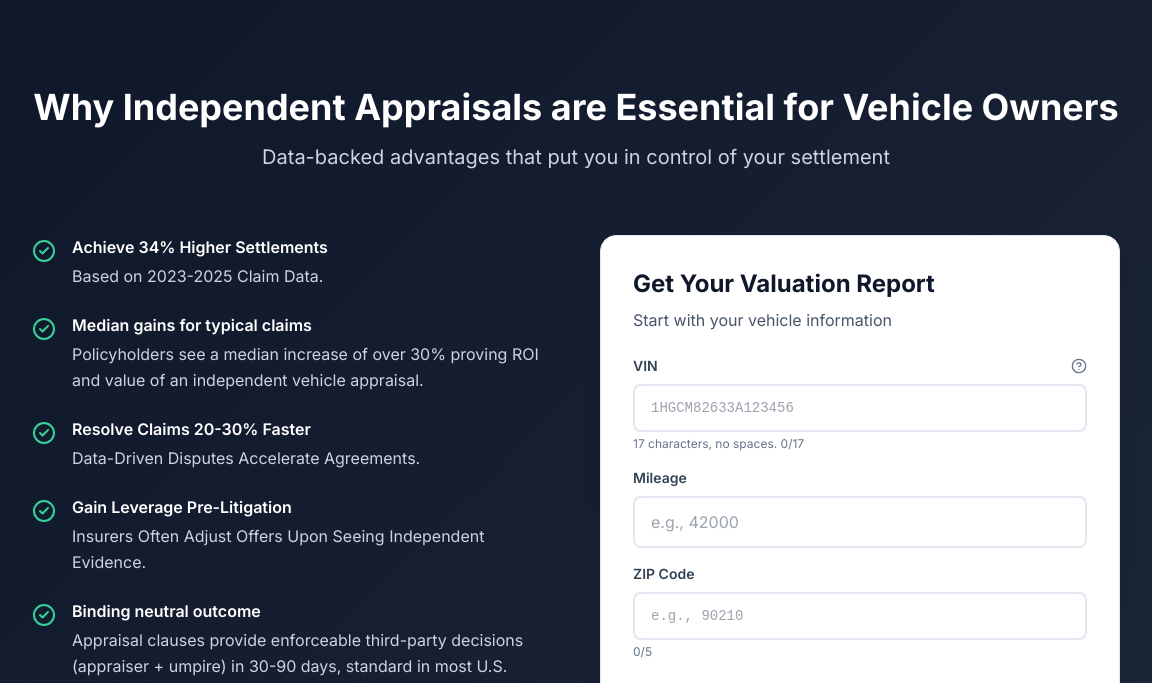
Test case: Testimonials bottom form › shows an error and stays on the page when report creation fails
Type "1HGCM82633A004352" into the field with placeholder "1HGCM82633A123456" at (860, 408), box [633,384,1087,432]
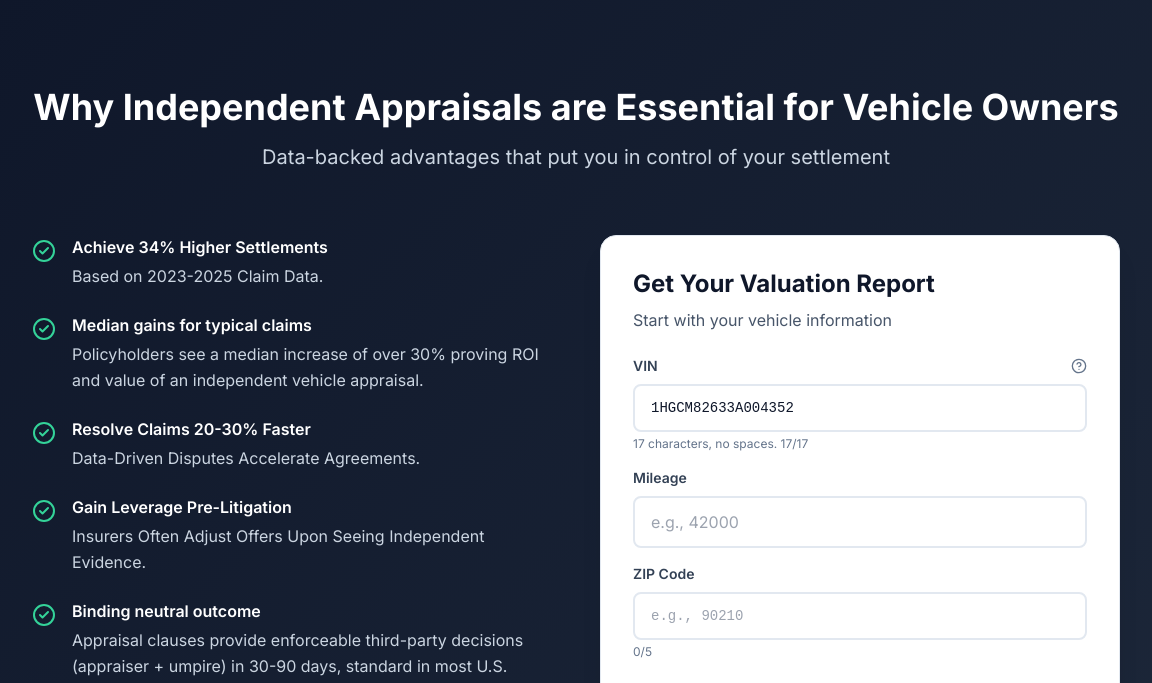
Type "42000" into the number field with placeholder "e.g., 42000" at (860, 522), box [633,496,1087,548]
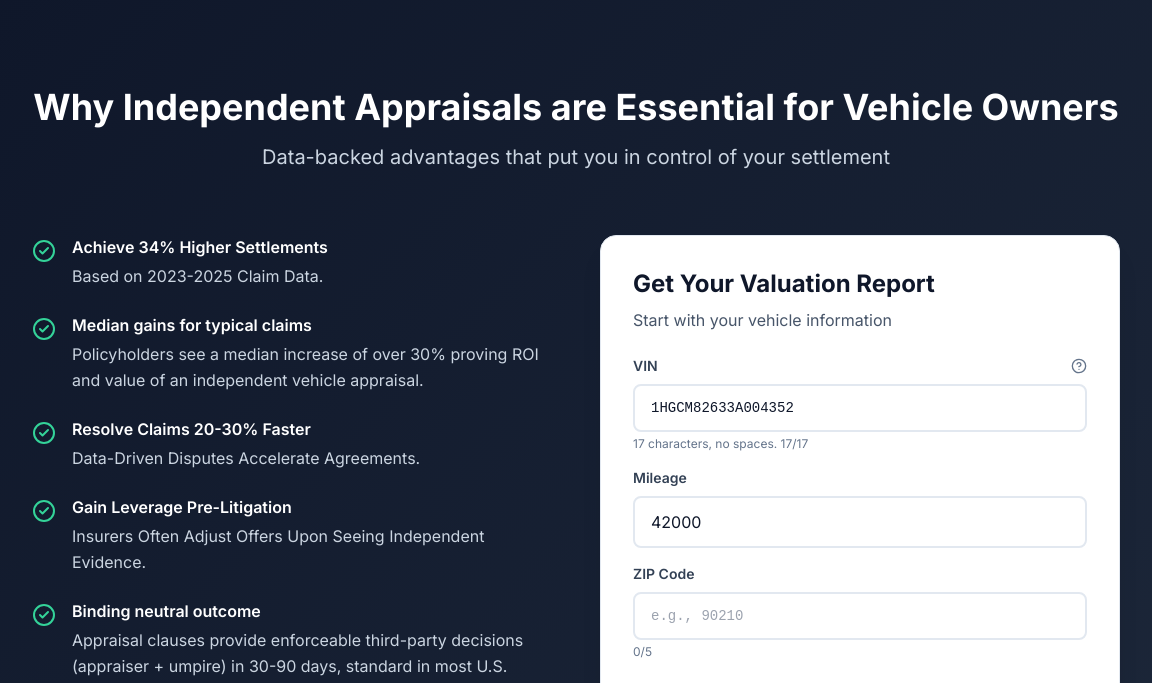
Type "90210" into the field with placeholder "e.g., 90210" at (860, 616), box [633,592,1087,640]
(page scrolled)
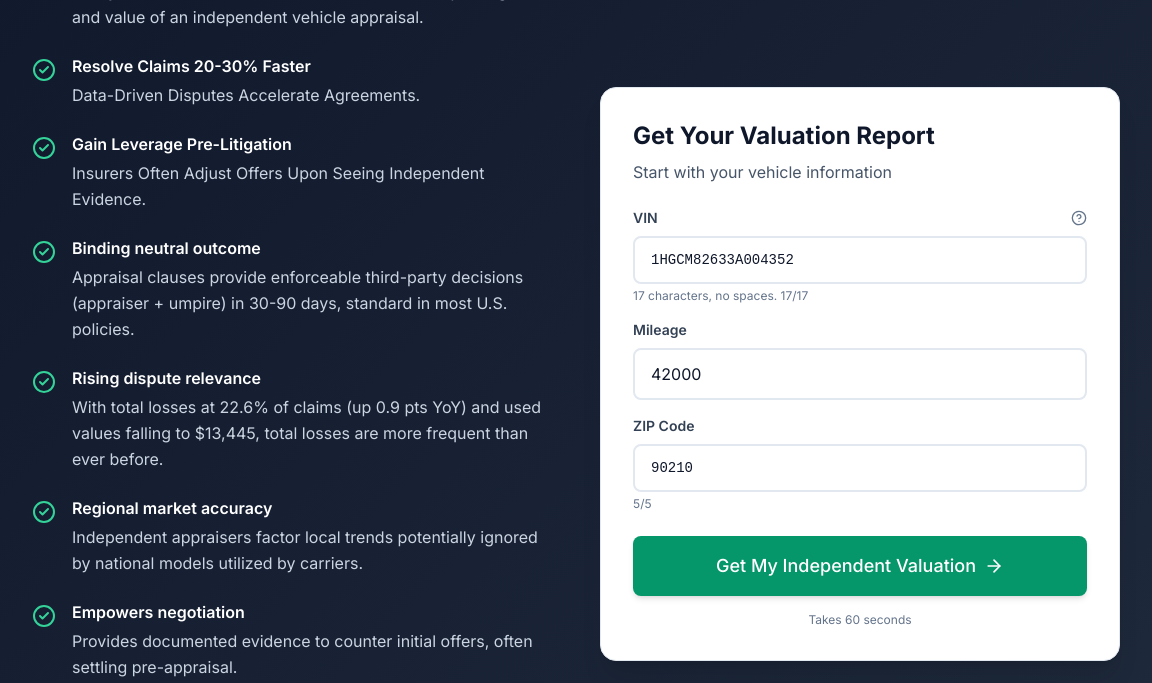
Click the button "Get My Independent Valuation" at (860, 566), box [633,536,1087,596]
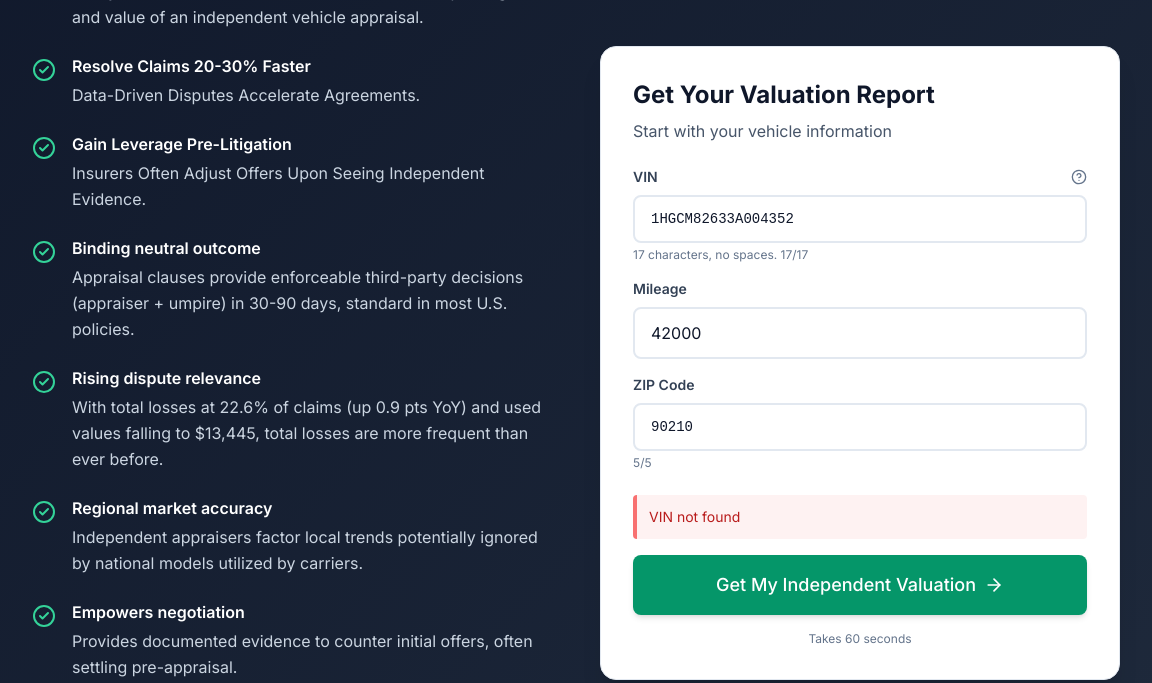
Check: the text "VIN not found" is shown, box [633,495,1087,539]
